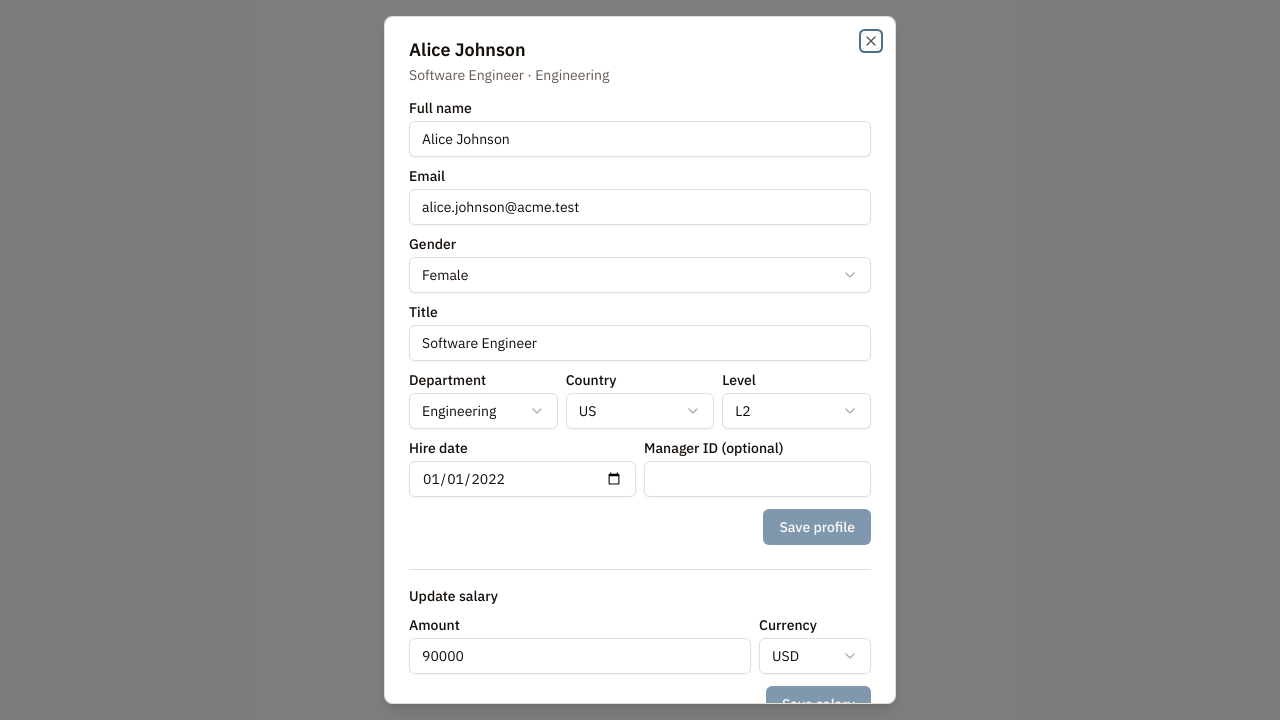
Test: EmployeeDetailModal › disables Save again after a successful save
This screenshot has width=1280, height=720.
expect the heading "Alice Johnson" is shown: met, box [409,38,526,61]
Replace the text in the field labelled "Amount" with "100000" at (580, 656), box [409,638,751,674]
(page scrolled)
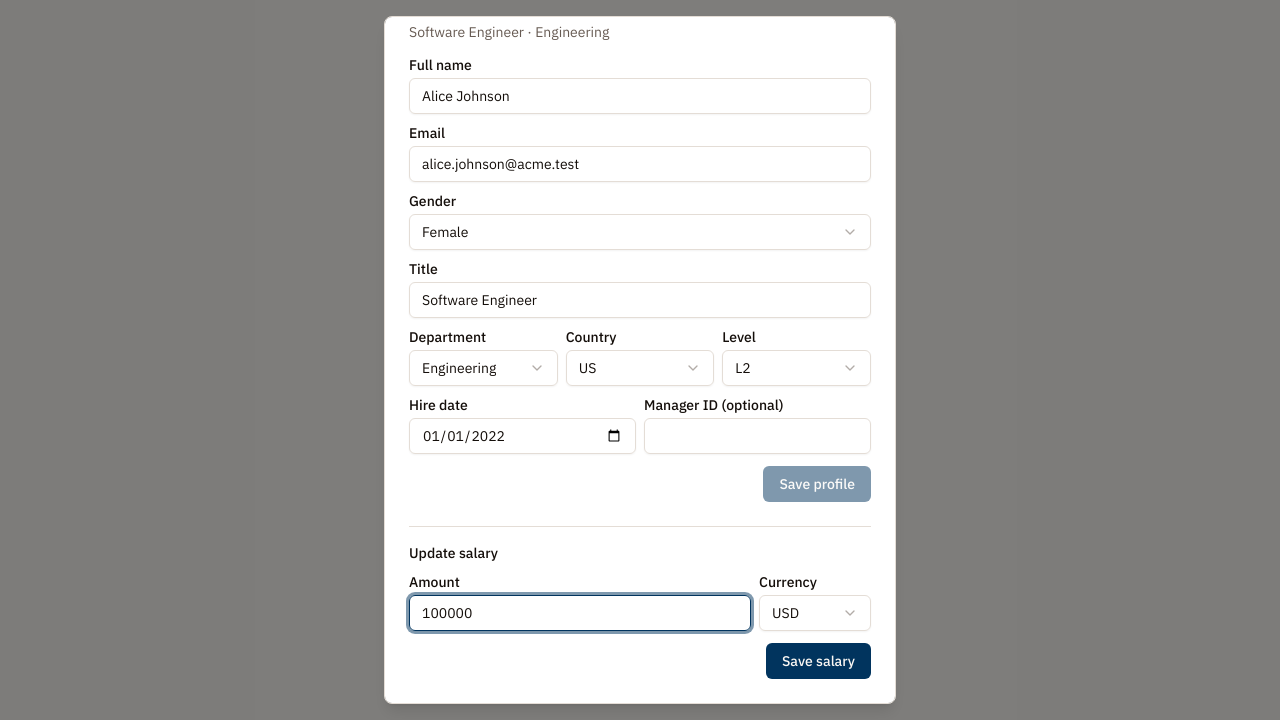
Click the button "Save salary" at (818, 661), box [766,643,871,679]
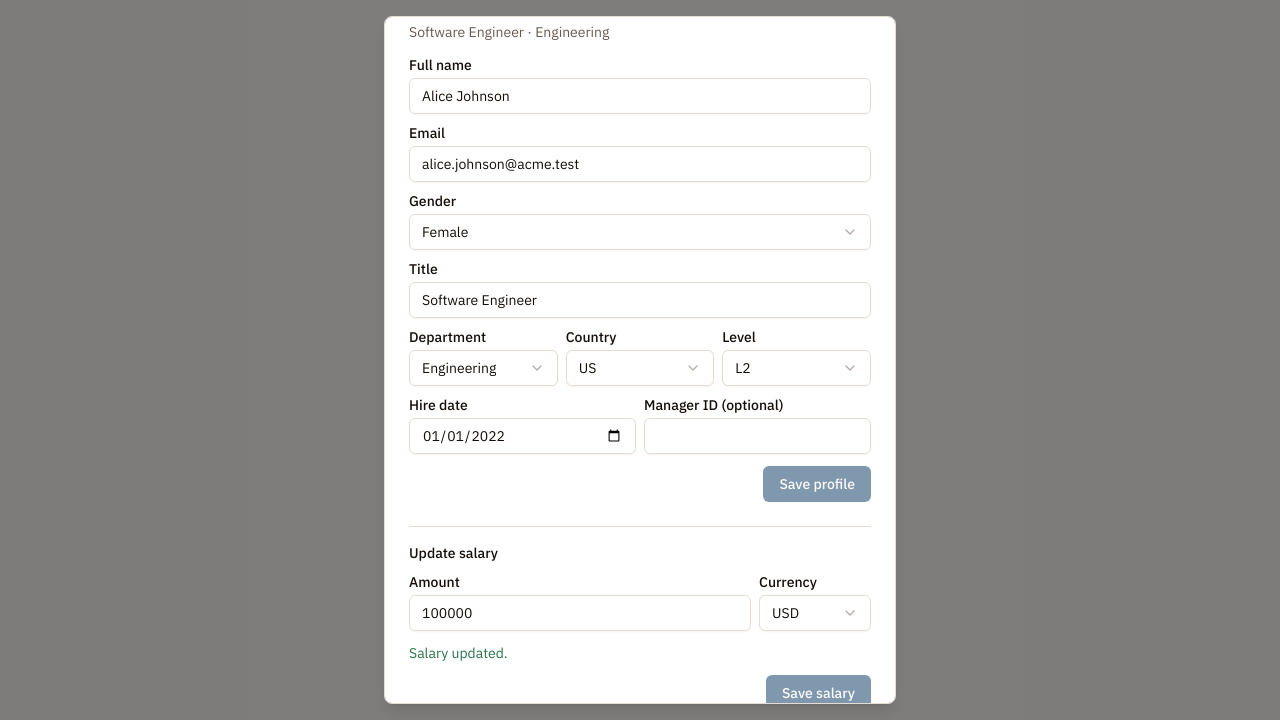
expect the text "Salary updated." is shown: met, box [409,644,508,662]
expect the button "Save salary" is disabled: met, box [766,675,871,704]
